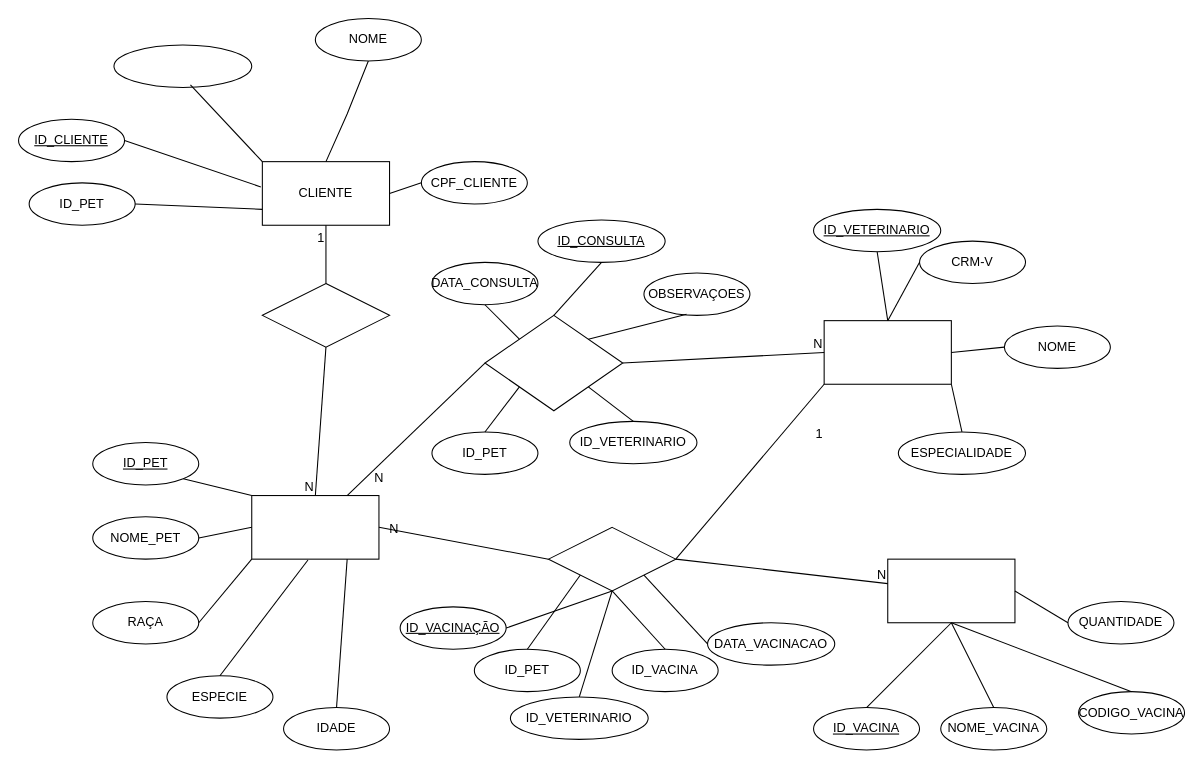
Image size: 1203x768. Some labels were removed from this diagram. Here are the shapes that lost their labels. From the top down, the centre of each, then its label:
At [182,65]: "TELEFONE_CLIENTE".
At [325,314]: "TEM".
At [553,362]: "CONSULTA".
At [887,352]: "VETERINARIO".
At [315,526]: "PET".
At [611,558]: "VACINAR".
At [951,590]: "VACINA".
